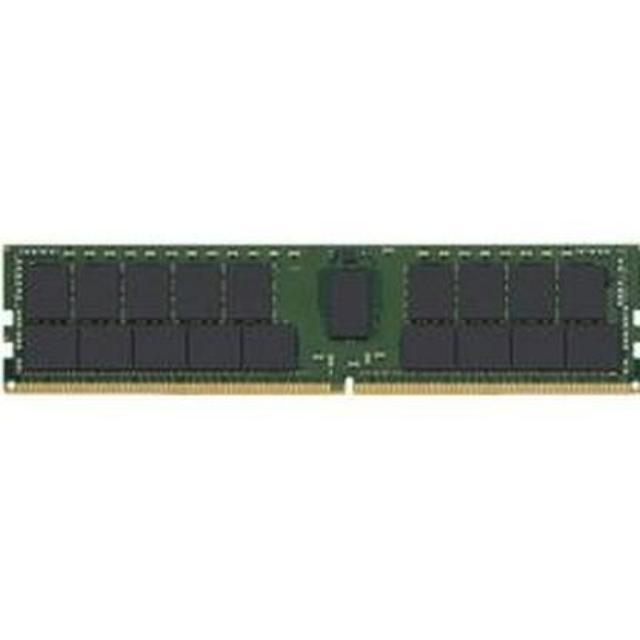RAM: (2, 236, 640, 401)
